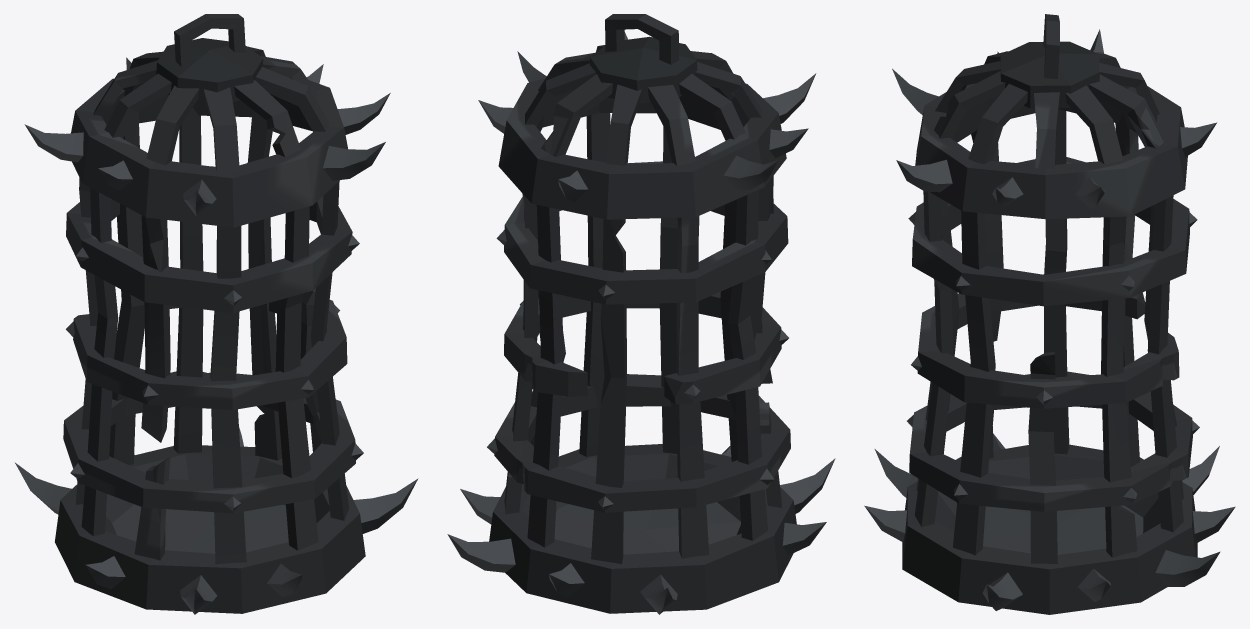
The model's file is cage.gltf.
3 renders of one model, left to right at view 1: azimuth 30°, elevation 25°; view 2: azimuth 150°, elevation 25°; view 3: azimuth 270°, elevation 25°, orthographic.
Parts seen in each view (by area): view 1: cage; view 2: cage; view 3: cage.
Boxes of the visible parts, left/top/right/bottom form: cage: left=15, top=14, right=418, bottom=614; cage: left=447, top=14, right=835, bottom=614; cage: left=864, top=14, right=1235, bottom=614.
Bounding box in the file's own units: 1.5 × 2.35 × 1.44.
1 material, 1 textured.
